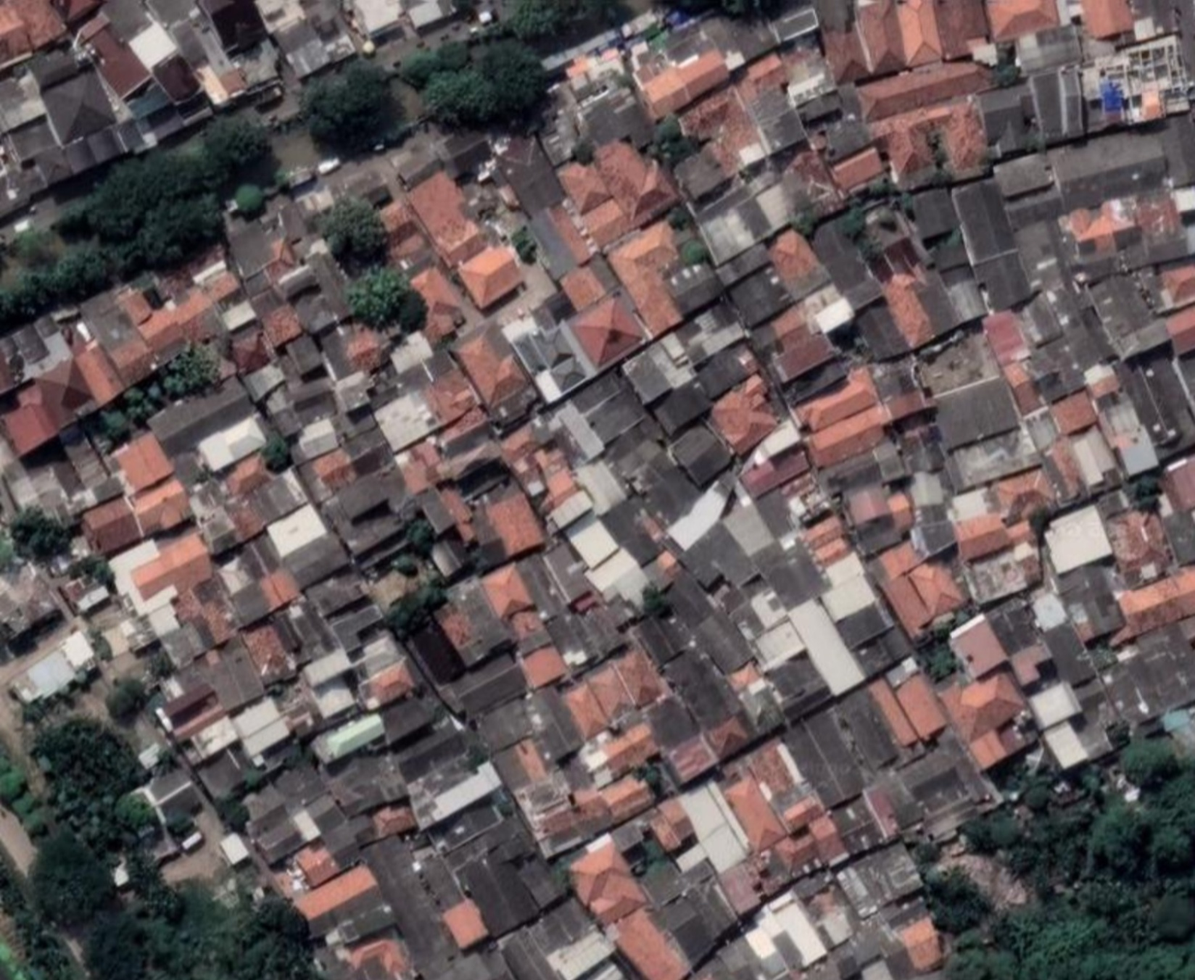building: (0, 0, 184, 216), (674, 734, 849, 912), (361, 818, 490, 980), (229, 756, 370, 903), (494, 714, 633, 862), (73, 0, 214, 144), (622, 0, 787, 122), (0, 31, 128, 183), (509, 279, 652, 407), (856, 732, 999, 859), (140, 0, 296, 114), (0, 35, 121, 174), (553, 123, 684, 250), (725, 578, 837, 719), (359, 830, 464, 980), (48, 284, 166, 409), (357, 342, 480, 459), (620, 298, 752, 406), (844, 254, 964, 368), (603, 216, 714, 339), (658, 637, 764, 765), (868, 92, 996, 197), (1090, 609, 1195, 735), (1074, 28, 1195, 137), (1057, 184, 1190, 281), (948, 174, 1035, 316), (937, 658, 1044, 773), (654, 564, 758, 681), (1047, 119, 1175, 214), (686, 164, 802, 268), (180, 453, 292, 558), (0, 354, 106, 463), (318, 460, 427, 566), (292, 859, 401, 964), (493, 891, 620, 980), (556, 642, 670, 741), (202, 529, 309, 634), (425, 787, 536, 888), (145, 366, 259, 463), (448, 317, 545, 431), (853, 48, 995, 123), (110, 526, 222, 621), (549, 363, 653, 463), (584, 125, 682, 229), (397, 741, 506, 833), (1079, 363, 1164, 479), (649, 872, 747, 971), (783, 705, 873, 812), (1023, 669, 1114, 774), (402, 165, 492, 270), (7, 625, 107, 718), (782, 593, 869, 698), (254, 0, 364, 83), (558, 832, 650, 931), (1084, 263, 1173, 364), (736, 887, 832, 980), (426, 572, 517, 670), (1118, 346, 1195, 458), (252, 0, 357, 82), (760, 146, 852, 239), (214, 200, 304, 295), (455, 843, 543, 940), (634, 41, 737, 123), (68, 11, 157, 104), (804, 214, 886, 314), (702, 369, 793, 459), (461, 477, 550, 569), (812, 0, 907, 85), (675, 776, 756, 875), (1014, 216, 1083, 329), (834, 838, 927, 920), (134, 282, 227, 364), (603, 899, 697, 980), (928, 371, 1022, 451), (732, 63, 810, 159), (563, 287, 650, 373), (682, 518, 767, 604), (34, 61, 119, 147), (490, 128, 569, 220), (409, 758, 505, 833), (802, 399, 899, 473), (828, 683, 906, 775), (1052, 556, 1131, 646), (544, 594, 631, 675), (0, 553, 69, 655), (942, 423, 1041, 493), (1101, 499, 1179, 587), (790, 364, 883, 437), (442, 648, 532, 723), (323, 742, 410, 819), (520, 195, 597, 281), (624, 449, 705, 530), (0, 310, 78, 394), (452, 235, 533, 314), (1040, 306, 1120, 384), (619, 330, 701, 406), (196, 635, 272, 716), (948, 503, 1038, 571), (517, 681, 589, 765), (578, 718, 664, 788), (389, 714, 475, 784), (1115, 563, 1195, 637), (961, 539, 1048, 607), (0, 430, 68, 515), (664, 477, 740, 553), (599, 420, 675, 496), (760, 223, 832, 303), (1037, 502, 1115, 575), (174, 576, 245, 654), (1026, 62, 1092, 145), (865, 349, 935, 427), (665, 416, 738, 490), (136, 759, 210, 832), (400, 614, 470, 691), (840, 476, 906, 557), (598, 494, 668, 570), (0, 0, 78, 68), (270, 594, 340, 669), (584, 543, 656, 615), (766, 889, 831, 968), (192, 411, 272, 475), (758, 540, 829, 612), (943, 610, 1013, 683), (370, 384, 443, 454), (763, 319, 839, 386), (883, 896, 945, 978), (408, 260, 470, 342), (975, 81, 1040, 158), (107, 427, 177, 498), (388, 428, 459, 498), (308, 707, 390, 767), (725, 262, 796, 331), (126, 473, 198, 541), (726, 659, 790, 735), (77, 491, 146, 561), (430, 116, 500, 185), (523, 790, 591, 861), (1012, 215, 1075, 291), (890, 668, 953, 744), (530, 100, 597, 171), (279, 528, 353, 592), (1133, 0, 1194, 77), (667, 141, 736, 209), (196, 0, 275, 59), (935, 97, 993, 177), (690, 337, 761, 402), (675, 82, 746, 146), (416, 362, 483, 429), (660, 252, 728, 318), (647, 374, 717, 438), (864, 675, 922, 752), (737, 443, 814, 501), (544, 920, 618, 980), (1039, 615, 1098, 690), (989, 463, 1059, 526), (877, 568, 938, 640), (417, 362, 483, 428), (717, 491, 781, 559), (906, 552, 969, 621), (472, 693, 542, 755), (580, 85, 653, 144), (243, 465, 311, 528), (69, 337, 129, 408), (538, 538, 598, 609), (193, 742, 258, 807), (984, 592, 1048, 658), (629, 603, 693, 669), (582, 383, 649, 446), (307, 245, 360, 323), (514, 845, 575, 912), (155, 673, 222, 734), (802, 881, 862, 949), (1010, 21, 1085, 75), (514, 549, 570, 621), (797, 507, 859, 571), (332, 466, 398, 526), (641, 690, 703, 753), (849, 619, 914, 679), (263, 500, 329, 559), (240, 619, 298, 686), (550, 396, 608, 463), (477, 560, 537, 624), (894, 911, 953, 976), (932, 0, 994, 61), (572, 451, 631, 515), (906, 182, 964, 247), (1064, 424, 1121, 490), (376, 690, 442, 747), (1027, 343, 1088, 404), (832, 593, 895, 652), (642, 793, 700, 857), (305, 564, 369, 622), (991, 147, 1058, 202), (829, 794, 887, 857), (1037, 435, 1089, 505), (563, 509, 622, 570), (327, 597, 390, 654), (951, 507, 1015, 563), (562, 42, 629, 95), (597, 767, 658, 825), (979, 304, 1034, 368), (355, 657, 420, 711), (104, 328, 162, 388), (634, 851, 692, 910), (230, 35, 289, 93), (747, 616, 807, 673), (894, 0, 945, 67), (827, 142, 890, 196), (1002, 179, 1067, 231), (577, 192, 636, 249), (149, 47, 205, 107), (817, 448, 884, 498), (272, 678, 326, 740), (438, 894, 494, 953), (386, 136, 446, 191), (830, 926, 891, 980), (293, 529, 352, 584), (741, 416, 804, 467), (1013, 289, 1067, 348), (440, 436, 505, 485), (781, 476, 838, 531), (817, 110, 876, 163), (819, 570, 878, 623), (345, 937, 417, 980), (435, 480, 484, 543), (239, 713, 298, 765), (986, 0, 1060, 41), (341, 423, 396, 478), (289, 283, 343, 339), (192, 499, 244, 557), (286, 411, 344, 463), (697, 935, 764, 980), (714, 239, 775, 288), (556, 258, 610, 313), (62, 431, 112, 490), (255, 300, 309, 354), (1040, 716, 1091, 773), (727, 10, 780, 64), (59, 566, 114, 618), (1048, 387, 1101, 439), (605, 770, 658, 822), (517, 640, 571, 691), (186, 712, 242, 761), (308, 442, 360, 494), (532, 441, 578, 499), (224, 325, 276, 376), (907, 511, 960, 561), (345, 162, 399, 211), (1001, 356, 1046, 414), (1007, 638, 1059, 688), (282, 330, 330, 384), (753, 486, 800, 541), (544, 485, 597, 533), (384, 327, 437, 375), (328, 367, 379, 416), (352, 629, 404, 677), (373, 194, 421, 246), (273, 194, 321, 246), (299, 644, 354, 689), (158, 619, 207, 669), (768, 2, 823, 46), (428, 951, 511, 980), (414, 484, 459, 537), (843, 480, 893, 527), (230, 694, 283, 738), (198, 264, 247, 311), (1020, 402, 1066, 452), (809, 292, 859, 338), (1162, 114, 1194, 185), (241, 358, 291, 403), (506, 603, 551, 653), (925, 227, 971, 275), (765, 301, 814, 346), (882, 382, 935, 423), (1025, 586, 1071, 633), (876, 536, 924, 581), (536, 463, 583, 508), (795, 88, 846, 129), (113, 280, 158, 326), (311, 676, 358, 720), (530, 286, 577, 330), (1080, 0, 1133, 39), (495, 421, 543, 464), (191, 61, 234, 109), (572, 784, 614, 833), (344, 322, 386, 370), (273, 259, 321, 301), (742, 50, 789, 92), (370, 799, 418, 840), (348, 0, 402, 36), (46, 451, 87, 498), (643, 546, 686, 590), (946, 485, 994, 523), (1080, 357, 1122, 400), (426, 535, 466, 580), (286, 375, 334, 411), (906, 466, 947, 508), (1163, 508, 1194, 563), (1159, 262, 1195, 308), (143, 598, 183, 638), (1077, 21, 1118, 60), (405, 0, 456, 31), (1165, 454, 1194, 508), (1092, 484, 1133, 522), (418, 345, 459, 383), (880, 944, 923, 980), (218, 296, 259, 333), (1166, 304, 1194, 354), (733, 137, 769, 169), (261, 384, 294, 417), (836, 611, 868, 643), (799, 957, 843, 980), (0, 351, 22, 392), (113, 0, 157, 19), (862, 601, 890, 627), (72, 316, 96, 344), (705, 809, 722, 835), (511, 742, 526, 763), (692, 826, 710, 843), (465, 405, 481, 419), (730, 123, 746, 136), (691, 765, 709, 776), (448, 421, 475, 428), (1016, 549, 1033, 559), (663, 737, 682, 745), (698, 762, 709, 774)
tree: (61, 127, 219, 256), (27, 686, 159, 817), (950, 908, 1142, 975), (0, 241, 132, 332), (291, 57, 401, 154), (20, 822, 119, 929), (216, 886, 326, 980), (397, 27, 495, 132), (128, 190, 233, 283), (134, 335, 231, 431), (0, 870, 75, 980), (472, 36, 556, 133), (333, 256, 416, 335), (923, 856, 1002, 937), (1005, 821, 1087, 898), (1078, 805, 1158, 883), (199, 111, 278, 189), (314, 196, 392, 275), (84, 914, 177, 980), (0, 763, 62, 848), (1132, 883, 1194, 965), (120, 846, 185, 924), (505, 0, 603, 51), (1143, 774, 1189, 879), (1001, 763, 1060, 823), (388, 518, 441, 582), (839, 202, 891, 267), (11, 514, 64, 569), (1122, 734, 1180, 782), (91, 796, 144, 848), (963, 813, 1019, 860), (387, 582, 441, 627), (102, 667, 150, 713), (1075, 879, 1133, 912), (65, 546, 117, 582), (1121, 473, 1162, 509), (919, 640, 954, 676), (644, 579, 675, 614), (151, 744, 179, 772), (218, 797, 244, 826), (236, 766, 266, 790), (270, 433, 289, 469)
